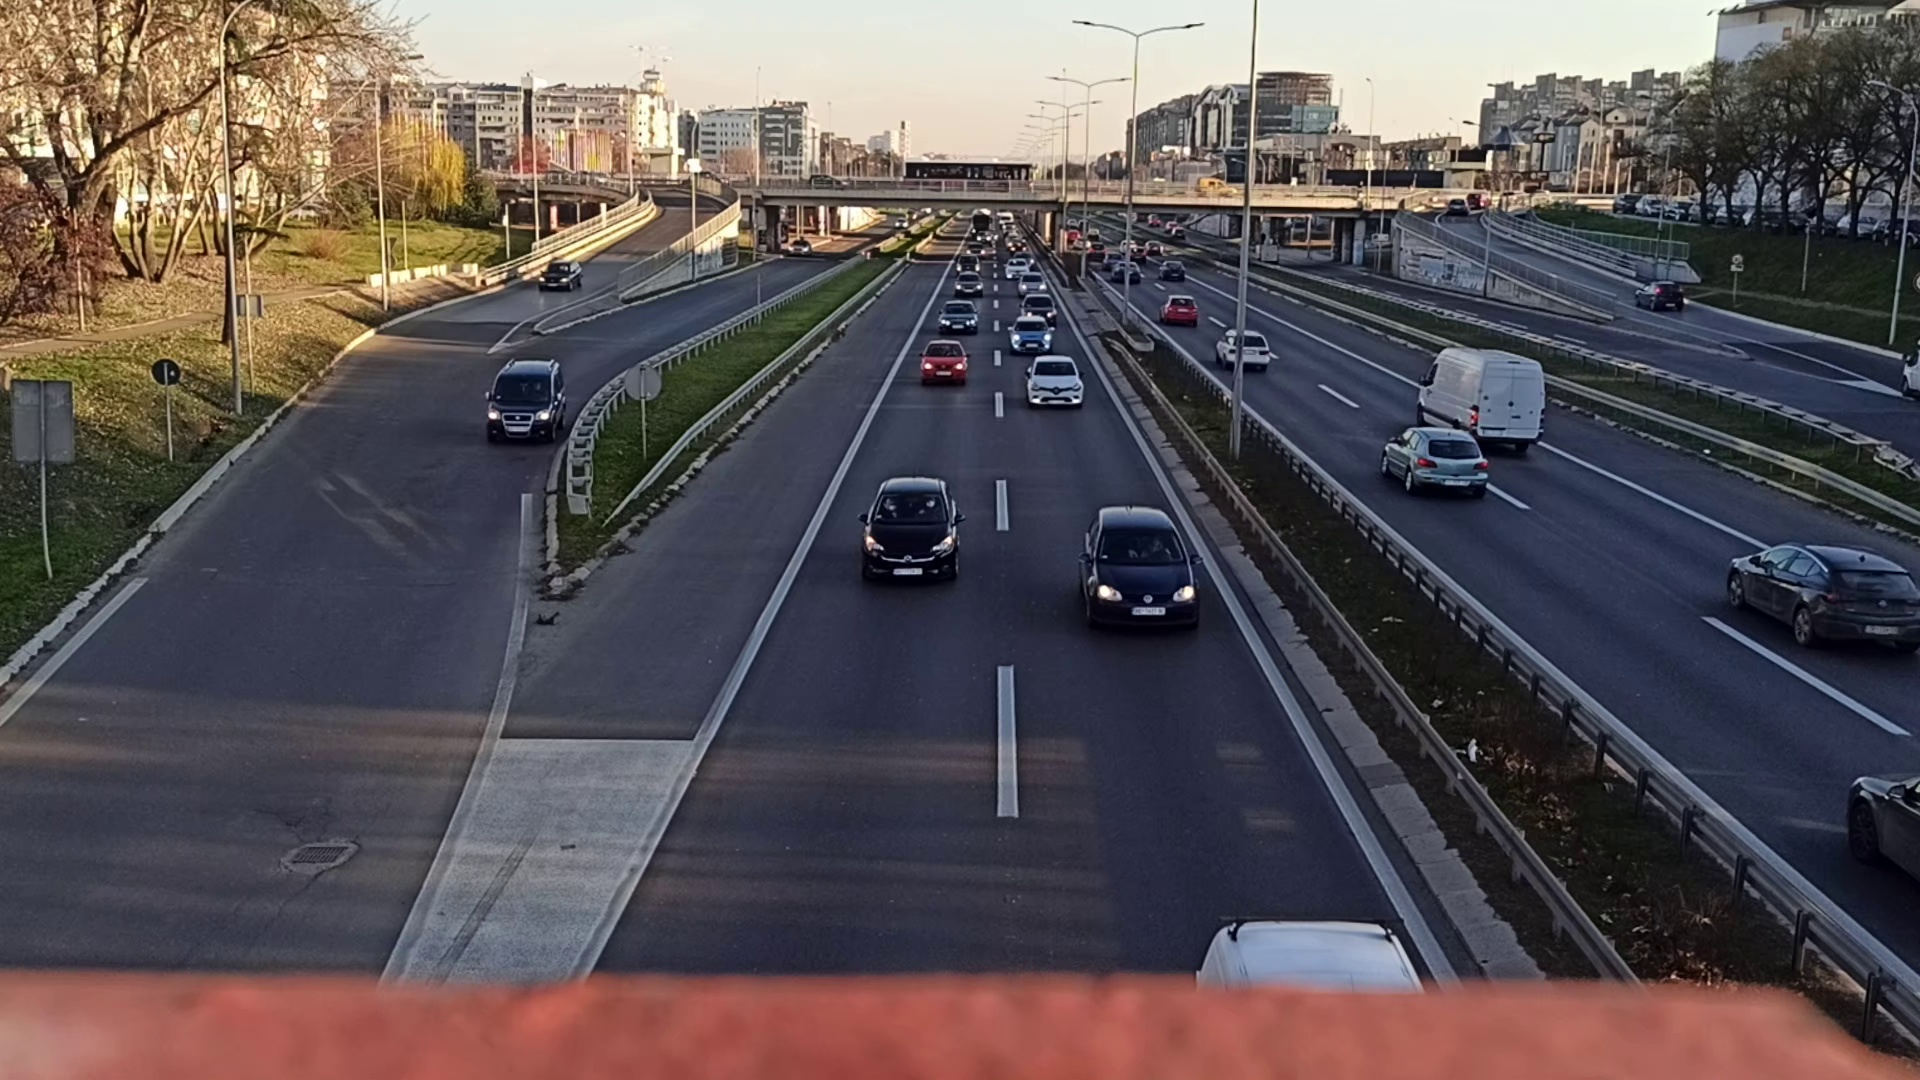car: (1726, 538, 1920, 655), (1077, 508, 1199, 629), (864, 477, 957, 580), (1385, 425, 1487, 495), (1026, 355, 1084, 410), (920, 342, 971, 384), (1215, 328, 1269, 367), (537, 258, 583, 294), (1006, 318, 1050, 353), (939, 301, 978, 332), (1160, 294, 1196, 324), (955, 272, 981, 294)
van: (1418, 347, 1540, 450), (485, 361, 564, 439)
